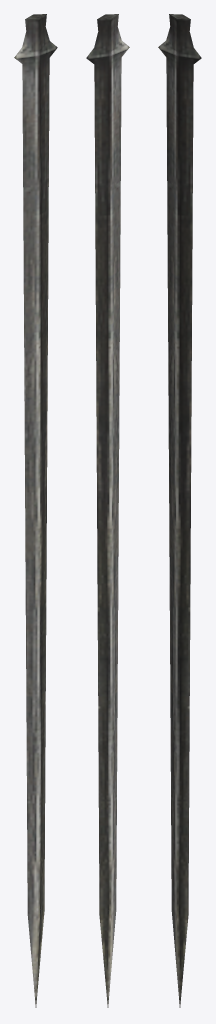
The model's file is Chuanjiajian_body.FBX.
The picture shows the model from 3 angles, left to right: view 1: azimuth 30°, elevation 25°; view 2: azimuth 210°, elevation 25°; view 3: azimuth 330°, elevation 25°; orthographic projection.
Visible parts, largest first — view 1: Chuanjiajian_body; view 2: Chuanjiajian_body; view 3: Chuanjiajian_body.
Part boxes in pixels (x1,y1,x2,y2): Chuanjiajian_body: (14,14,57,1007); Chuanjiajian_body: (86,14,129,1007); Chuanjiajian_body: (158,14,201,1007).
Size of the model in its own units: 5.61 by 122 by 1.45.
1 material, 1 textured.
